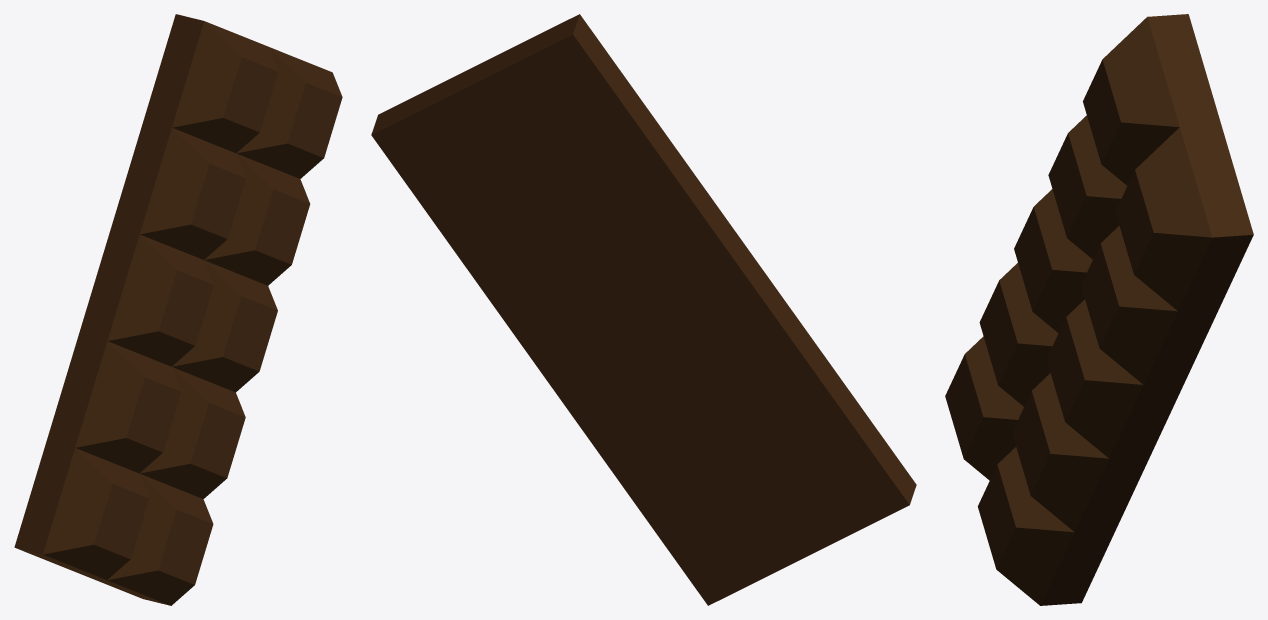
The model's file is Schokolade.fbx.
The picture shows the model from 3 angles, left to right: view 1: azimuth 30°, elevation 25°; view 2: azimuth 150°, elevation 25°; view 3: azimuth 270°, elevation 25°; orthographic projection. The views are drawn at different scales.
Visible parts, largest first — view 1: pCube1; view 2: pCube1; view 3: pCube1.
Boxes of the visible parts, bbox=[...] form: pCube1: bbox=[14, 14, 342, 605]; pCube1: bbox=[371, 14, 916, 605]; pCube1: bbox=[945, 14, 1253, 605].
Size of the model in its own units: 5.8 by 7.41 by 3.25.
